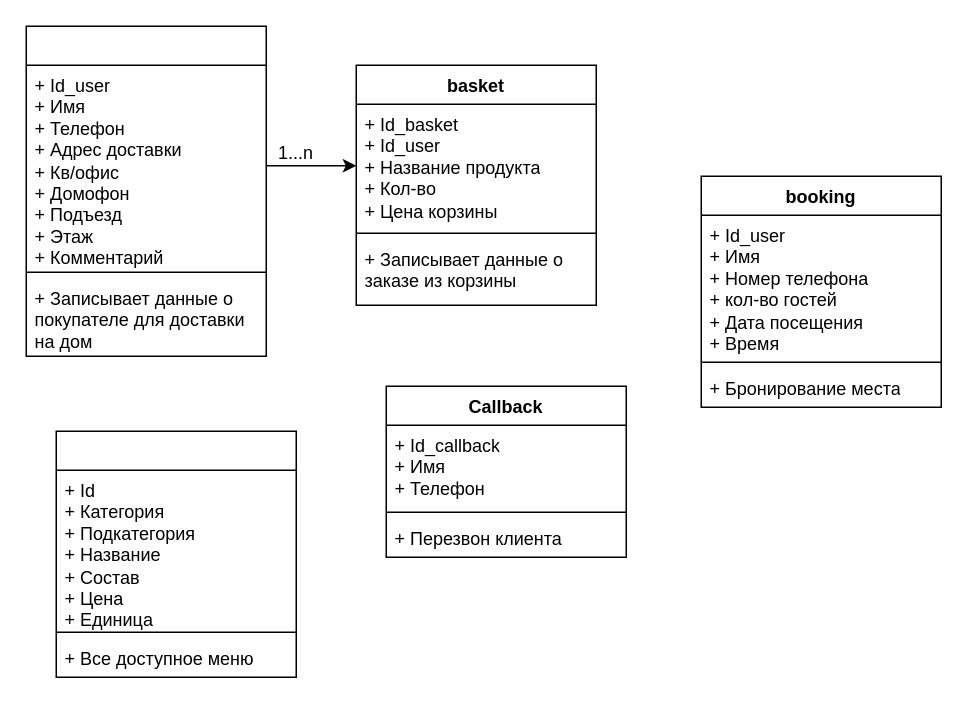
Some shapes in this 968 by 708 pixel diagram are drawn without their labels. The box of each missing label's shape, as (x1, y1, x2, y2) in pixels:
menu: (55, 430, 296, 677)
User_basket: (25, 25, 266, 356)
